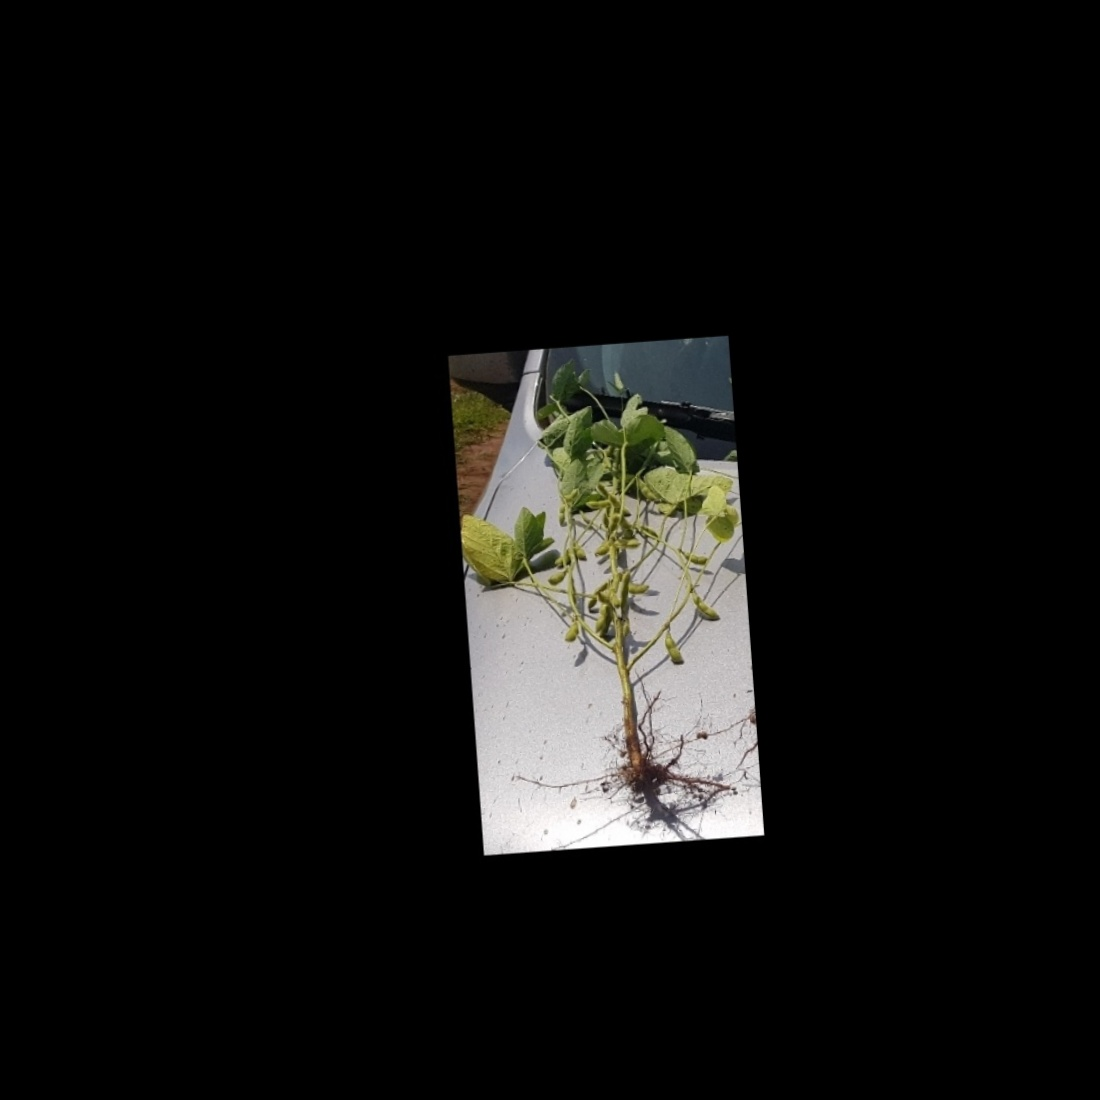pod: (688, 581, 723, 627), (662, 623, 688, 671), (636, 473, 660, 508), (676, 546, 710, 568), (558, 618, 582, 649), (582, 496, 613, 512), (544, 569, 569, 588)
soy: (478, 358, 749, 816)
